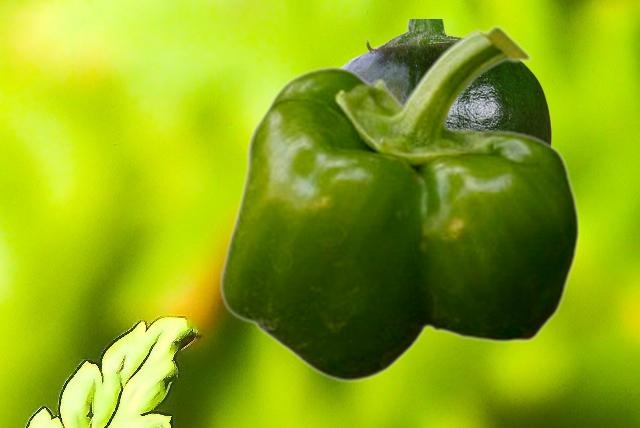bell_pepper: (219, 25, 579, 382), (342, 19, 551, 142)
